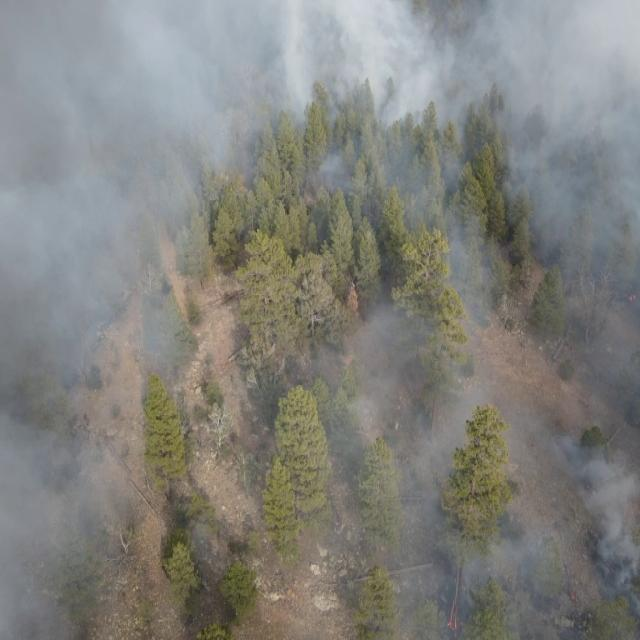fire: (448, 601, 463, 633), (564, 585, 580, 607)
smoke: (305, 187, 640, 640), (0, 0, 143, 640), (209, 0, 640, 189), (144, 0, 209, 379), (185, 515, 224, 563)
